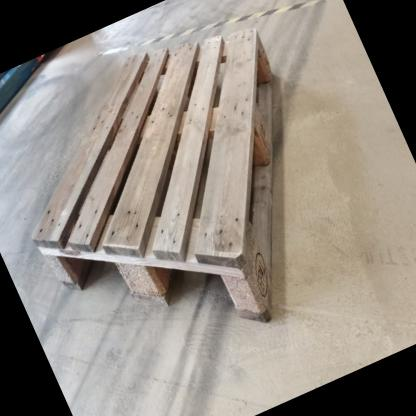BoxFace: (24, 21, 274, 326)
